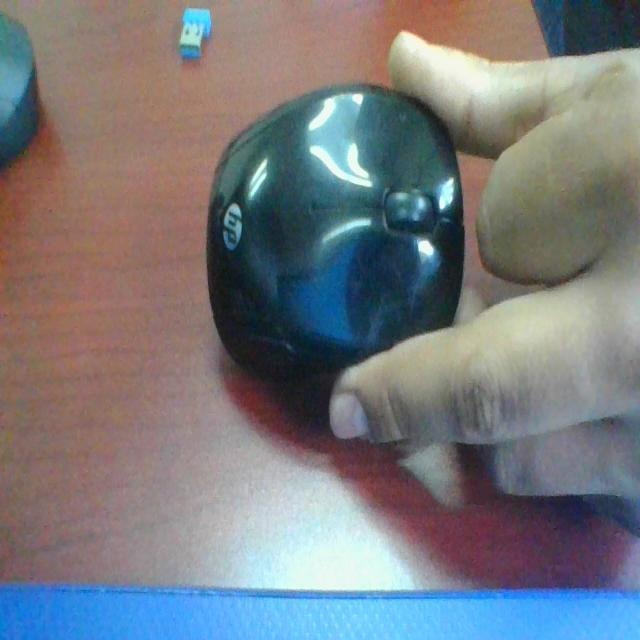mouse: (198, 89, 480, 378)
